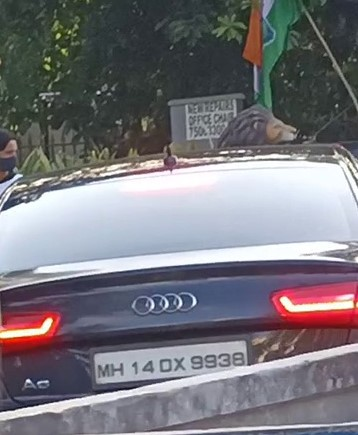MH14DX9938: (93, 339, 248, 385)
